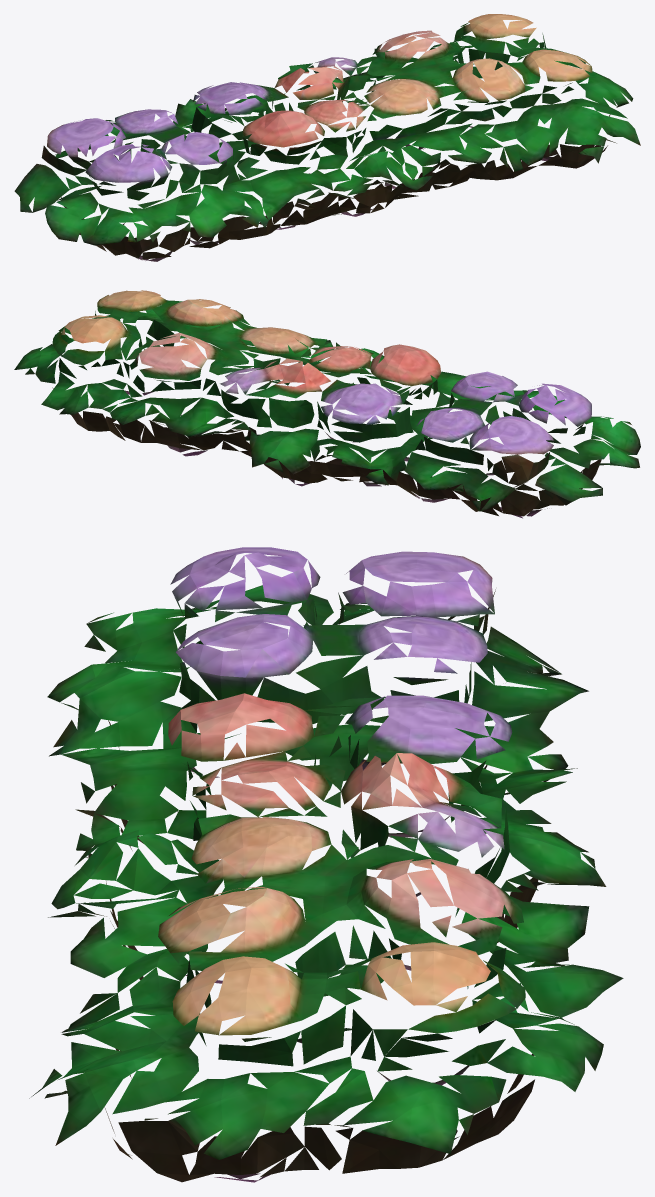
File: flowers_bed.glb
The picture shows the model from 3 angles, top to bottom: view 1: azimuth 30°, elevation 25°; view 2: azimuth 150°, elevation 25°; view 3: azimuth 270°, elevation 25°; orthographic projection. The views are drawn at different scales.
Parts seen in each view (by area): view 1: world.001; view 2: world.001; view 3: world.001.
Part boxes in pixels (x1,y1,x2,y2): world.001: (14, 14, 640, 261); world.001: (14, 290, 640, 518); world.001: (29, 547, 623, 1182).
Bounding box in the file's own units: 0.986 × 0.188 × 0.4446.
Materials: 1 (1 with a texture image).
